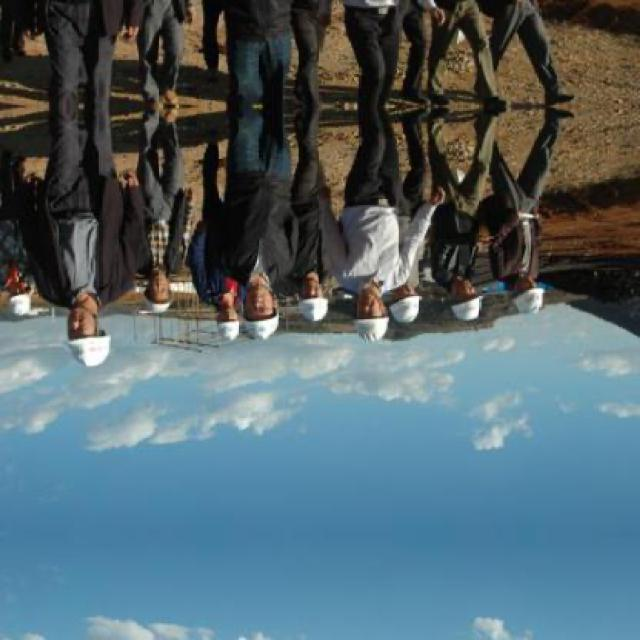con casco: (37, 300, 128, 392), (508, 264, 599, 324), (428, 263, 493, 329), (137, 258, 211, 314), (388, 275, 451, 331), (234, 278, 280, 348), (309, 272, 359, 331), (201, 290, 249, 350), (352, 281, 389, 352)
